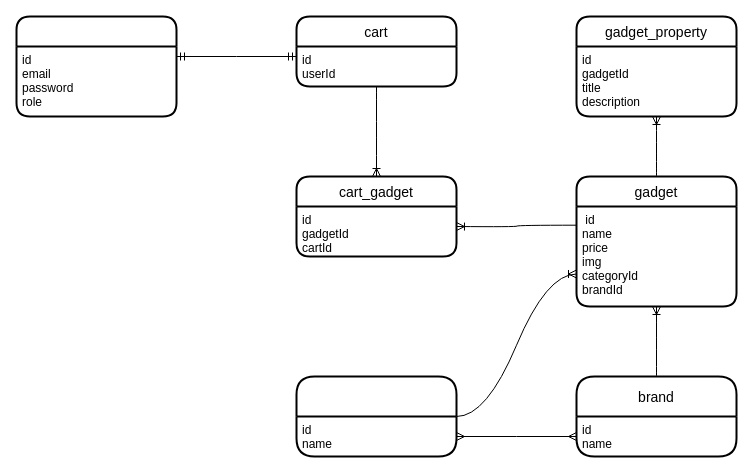
This 753x473 diagram has some shape labels left out. The box of each missing label's shape, as (x1, y1, x2, y2) in pixels:
category: (295, 375, 457, 457)
user: (15, 15, 177, 117)
